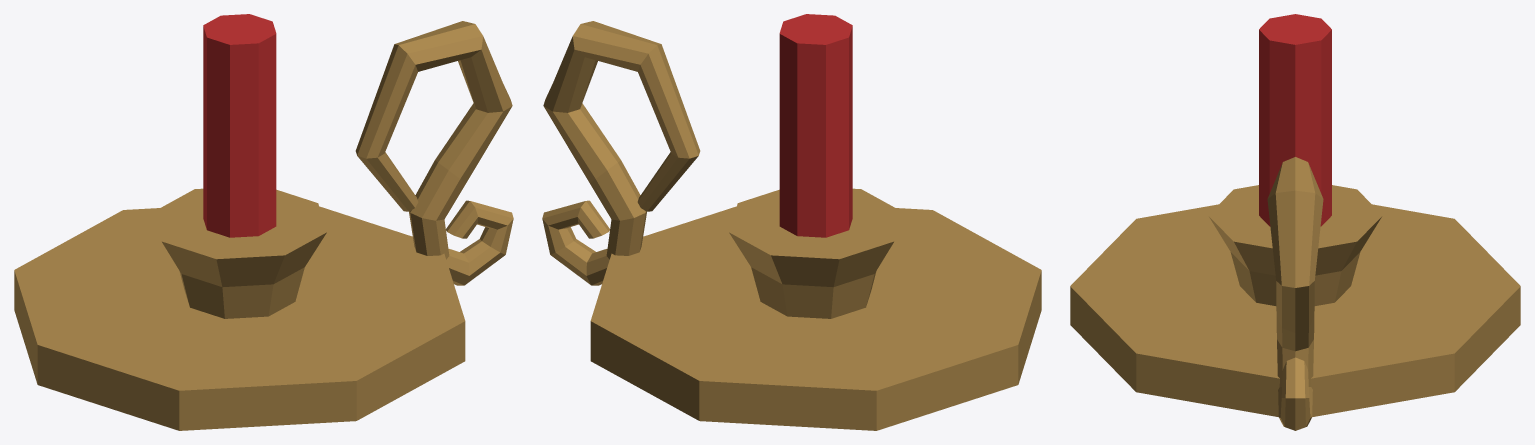
The model's file is candle03.FBX.
3 views of the same model, side by side, from view 1: azimuth 30°, elevation 25°; view 2: azimuth 150°, elevation 25°; view 3: azimuth 270°, elevation 25° (orthographic). The views are drawn at different scales.
Visible parts, largest first — view 1: candle03; view 2: candle03; view 3: candle03.
Part boxes in pixels (x1,y1,x2,y2): candle03: (14,14,513,430); candle03: (542,14,1041,430); candle03: (1070,14,1520,430).
Bounding box in the file's own units: 22.39 × 13.96 × 19.09.
Materials: 1 (1 with a texture image).
